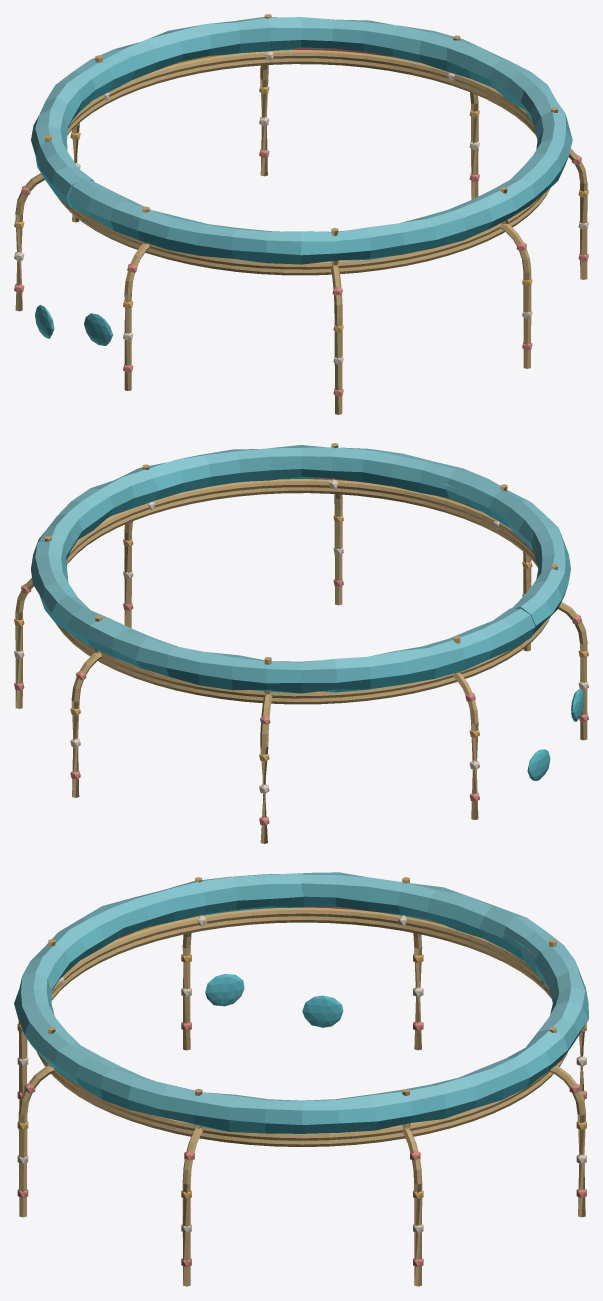
The model's file is goo_jar_trim_3_mid@beach.fbx.
3 views of the same model, one above another, from view 1: azimuth 30°, elevation 25°; view 2: azimuth 150°, elevation 25°; view 3: azimuth 270°, elevation 25° (orthographic). The views are drawn at different scales.
Parts seen in each view (by area): view 1: goo_jar_trim_3_mid; view 2: goo_jar_trim_3_mid; view 3: goo_jar_trim_3_mid.
Part boxes in pixels (box(x1,y1,x2,y2)): goo_jar_trim_3_mid: box(14, 14, 588, 414); goo_jar_trim_3_mid: box(14, 443, 588, 843); goo_jar_trim_3_mid: box(14, 872, 588, 1286).
Size of the model in its own units: 47.64 by 16.05 by 45.98.
